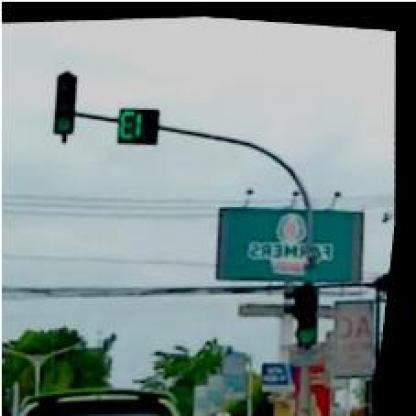green: (48, 70, 84, 134), (296, 278, 331, 341)
